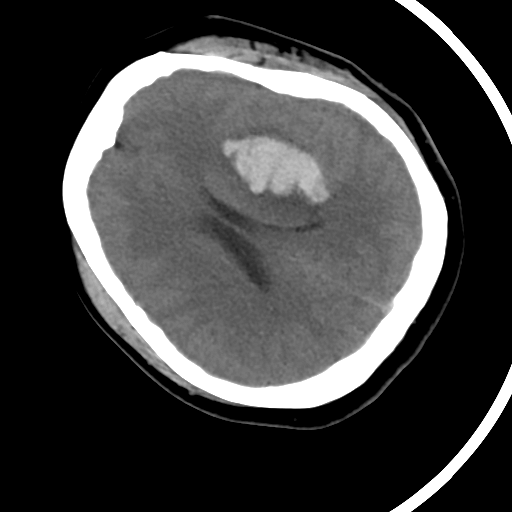a: (206, 118, 345, 221)
